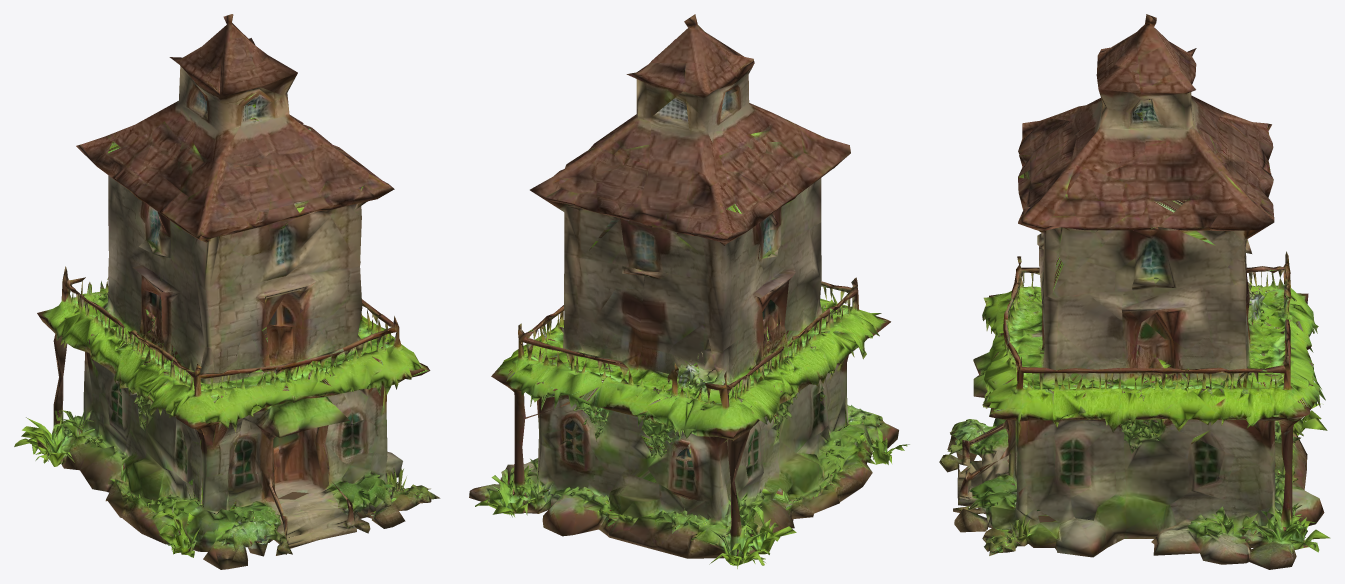
File: bq_tower_house.mid.glb
3 renders of one model, left to right at view 1: azimuth 30°, elevation 25°; view 2: azimuth 150°, elevation 25°; view 3: azimuth 270°, elevation 25°, orthographic. The views are drawn at different scales.
Size of the model in its own units: 1.21 by 1.76 by 1.31.
1 material, 1 textured.
